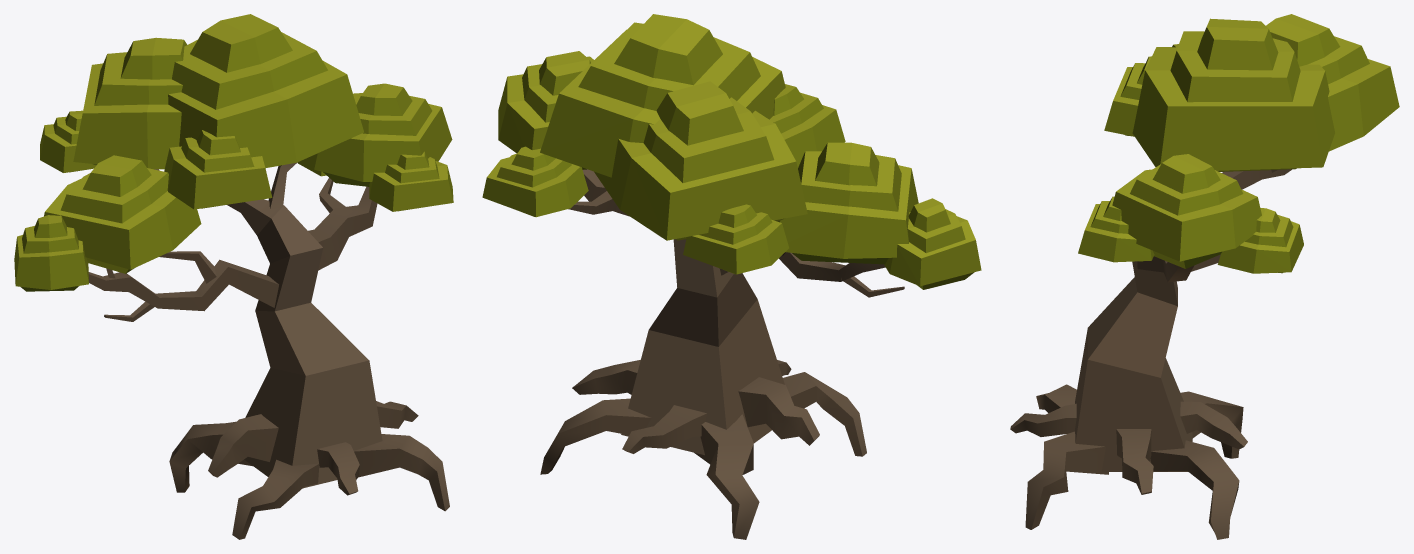
File: SF_Env_Tree_Large_01.fbx
The picture shows the model from 3 angles, left to right: view 1: azimuth 30°, elevation 25°; view 2: azimuth 150°, elevation 25°; view 3: azimuth 270°, elevation 25°; orthographic projection. The views are drawn at different scales.
Parts seen in each view (by area): view 1: SF_Env_Tree_Large_01; view 2: SF_Env_Tree_Large_01; view 3: SF_Env_Tree_Large_01.
Boxes of the visible parts, x1,y1,x2,y2 form: SF_Env_Tree_Large_01: (14,14,453,539); SF_Env_Tree_Large_01: (482,14,981,539); SF_Env_Tree_Large_01: (1010,14,1399,539).
Size of the model in its own units: 16.54 by 16.2 by 12.34.
